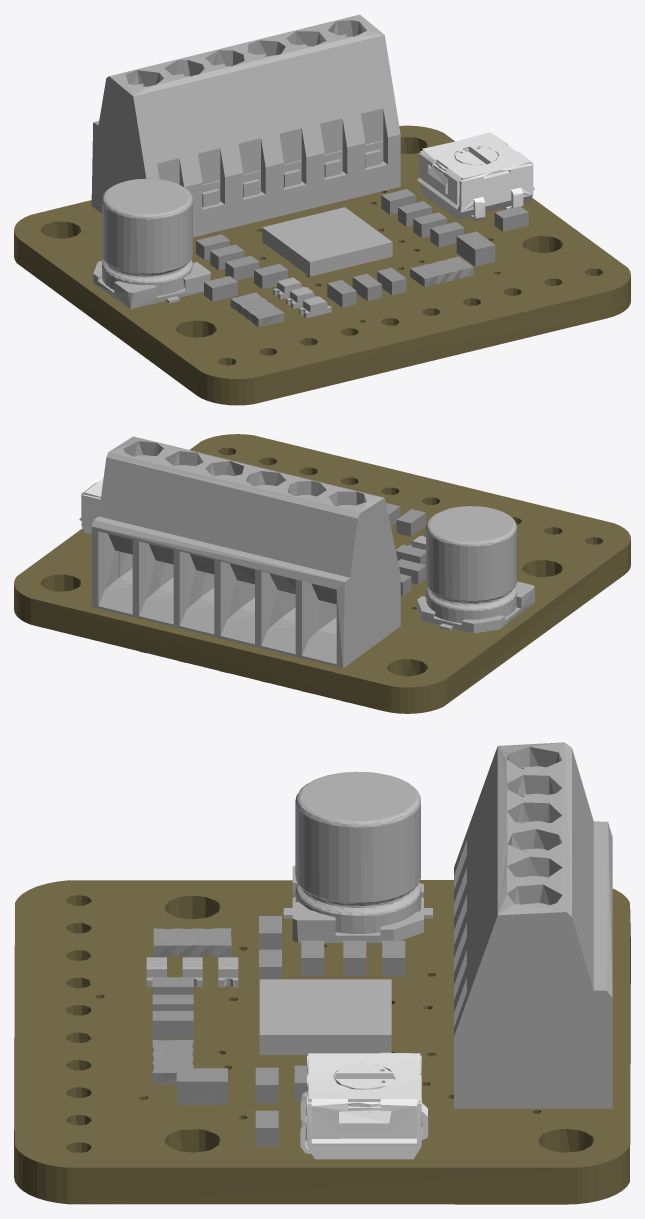
File: adafruit-6109-a4988.glb
3 renders of one model, top to bottom at view 1: azimuth 30°, elevation 25°; view 2: azimuth 150°, elevation 25°; view 3: azimuth 270°, elevation 25°, orthographic. The views are drawn at different scales.
Parts seen in each view (by area): view 1: colour 4, colour 1, colour 2, colour 3; view 2: colour 4, colour 1, colour 2, colour 3; view 3: colour 1, colour 4, colour 2, colour 3.
Part boxes in pixels (x1,y1,x2,y2): colour 4: [91, 14, 400, 318]; colour 1: [14, 125, 630, 405]; colour 2: [196, 189, 528, 327]; colour 3: [417, 132, 534, 220]; colour 4: [91, 436, 534, 702]; colour 1: [14, 434, 630, 713]; colour 2: [386, 503, 425, 595]; colour 3: [79, 478, 103, 534]; colour 1: [14, 880, 630, 1204]; colour 4: [146, 742, 612, 1108]; colour 2: [152, 916, 405, 1146]; colour 3: [300, 1052, 428, 1159].
Bounding box in the file's own units: 0.0267 × 0.012 × 0.0241.
